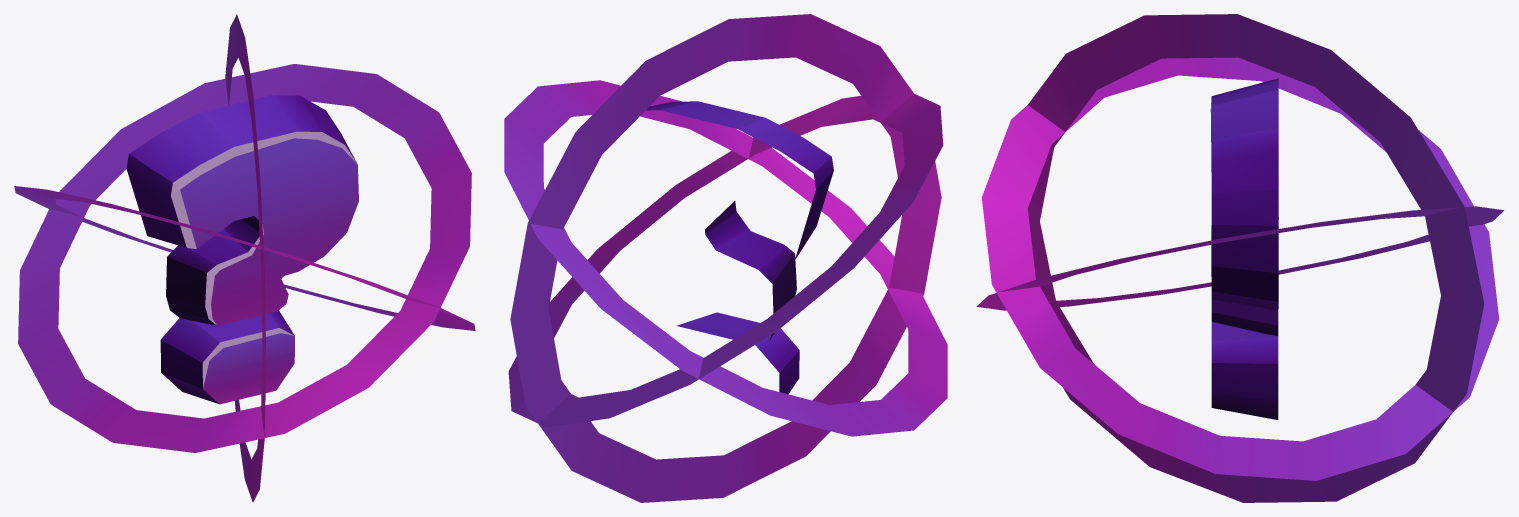
The model's file is MysteryPowerupLegacy.glb.
The picture shows the model from 3 angles, left to right: view 1: azimuth 30°, elevation 25°; view 2: azimuth 150°, elevation 25°; view 3: azimuth 270°, elevation 25°; orthographic projection. The views are drawn at different scales.
Parts seen in each view (by area): view 1: Letter, ring2, ring1, ring3; view 2: ring3, ring2, ring1, Letter; view 3: ring3, ring1, Letter, ring2.
Boxes of the visible parts, left/top/right/bottom form: Letter: left=126, top=95, right=358, bottom=404; ring2: left=18, top=64, right=471, bottom=452; ring1: left=14, top=186, right=475, bottom=330; ring3: left=225, top=14, right=266, bottom=502; ring3: left=510, top=14, right=941, bottom=502; ring2: left=504, top=80, right=947, bottom=436; ring1: left=508, top=93, right=943, bottom=427; Letter: left=646, top=101, right=833, bottom=394; ring3: left=1027, top=14, right=1484, bottom=502; ring1: left=981, top=57, right=1499, bottom=480; Letter: left=1210, top=78, right=1278, bottom=419; ring2: left=976, top=206, right=1503, bottom=310.
Size of the model in its own units: 14.26 by 16.31 by 16.01.
1 material, 1 textured.
